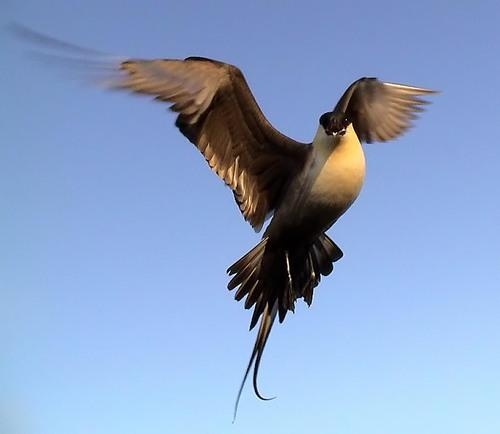bird: (71, 55, 433, 418)
